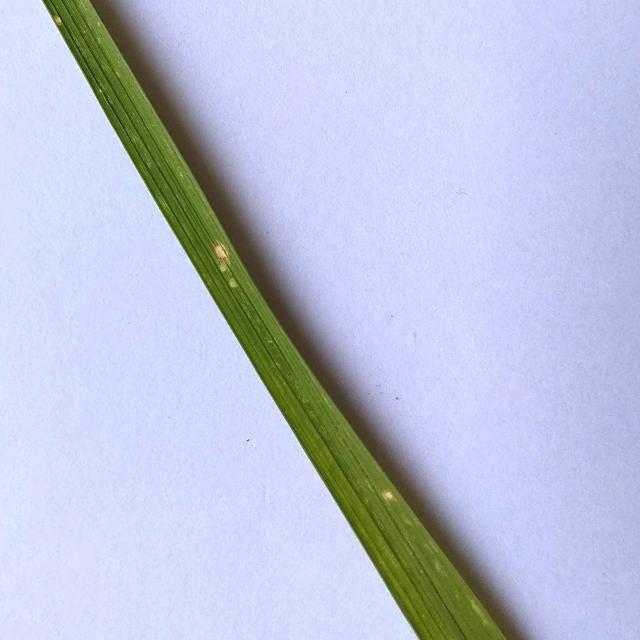Blast: (210, 241, 238, 281), (383, 490, 403, 506), (54, 10, 72, 24)
